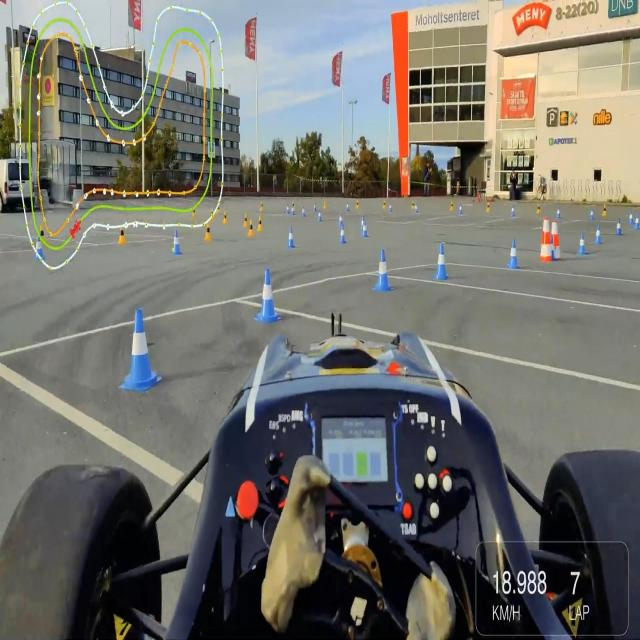blue_cone: (120, 307, 162, 392), (254, 267, 281, 324), (373, 250, 393, 292), (434, 244, 450, 280), (508, 238, 520, 269), (171, 228, 182, 255), (35, 234, 44, 260), (288, 224, 296, 248), (579, 231, 586, 254), (362, 219, 369, 237), (596, 224, 602, 244), (616, 218, 623, 235), (341, 224, 346, 244)
large_orange_cone: (540, 217, 553, 262), (549, 220, 562, 261)
yellow_cone: (118, 224, 126, 244), (205, 221, 212, 241), (256, 215, 264, 232), (248, 218, 255, 236)
